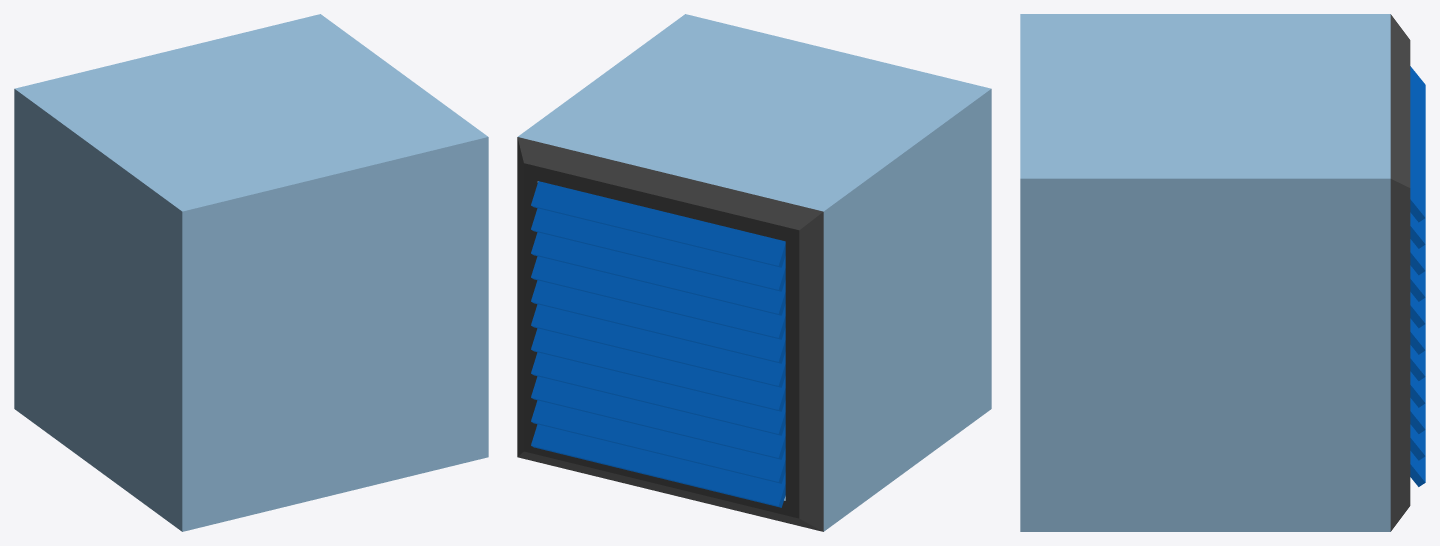
The model's file is Vent_Box.fbx.
3 views of the same model, side by side, from view 1: azimuth 30°, elevation 25°; view 2: azimuth 150°, elevation 25°; view 3: azimuth 270°, elevation 25° (orthographic). The views are drawn at different scales.
Visible parts, largest first — view 1: Vent_Box; view 2: Vent_Box; view 3: Vent_Box.
Boxes of the visible parts, x1=… form: Vent_Box: x1=14, y1=14, x2=488, y2=531; Vent_Box: x1=517, y1=14, x2=991, y2=531; Vent_Box: x1=1020, y1=14, x2=1425, y2=531.
Bounding box in the file's own units: 1.33 × 1.33 × 1.39.
